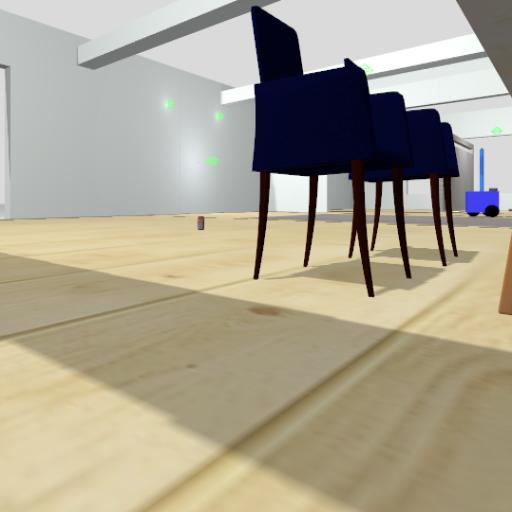COCA: (186, 198, 216, 245)
